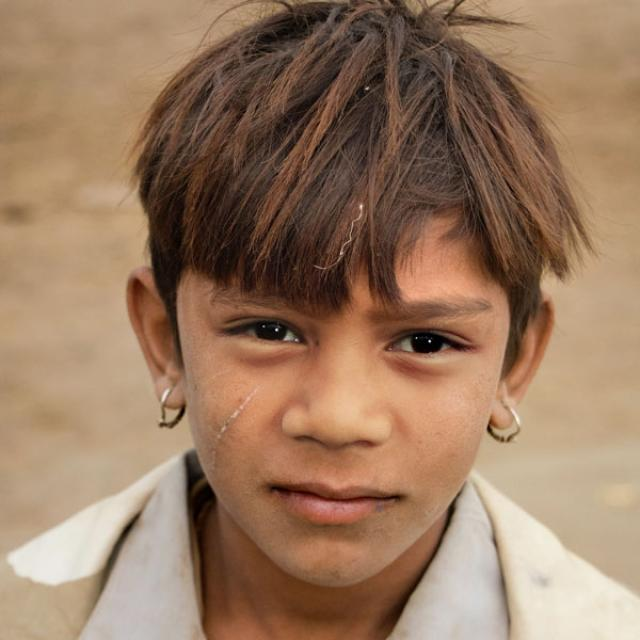face: (112, 57, 571, 592)
